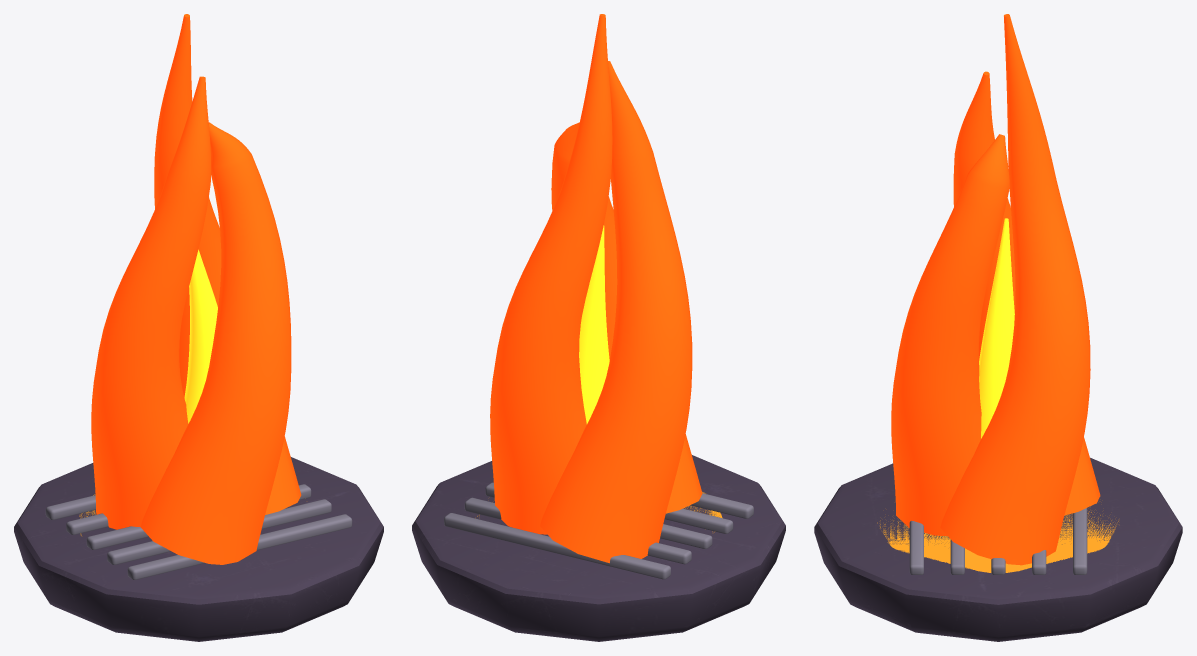
File: hz_fire_vent_active.glb
3 views of the same model, side by side, from view 1: azimuth 30°, elevation 25°; view 2: azimuth 150°, elevation 25°; view 3: azimuth 270°, elevation 25° (orthographic).
Visible parts, largest first — view 1: hz_fire_vent_active; view 2: hz_fire_vent_active; view 3: hz_fire_vent_active.
Boxes of the visible parts, box(x1,y1,x2,y2) form: hz_fire_vent_active: box(14, 14, 383, 641); hz_fire_vent_active: box(412, 14, 785, 641); hz_fire_vent_active: box(814, 14, 1182, 641).
Size of the model in its own units: 0.9035 by 1.5 by 0.9035.
5 materials, 1 textured.
